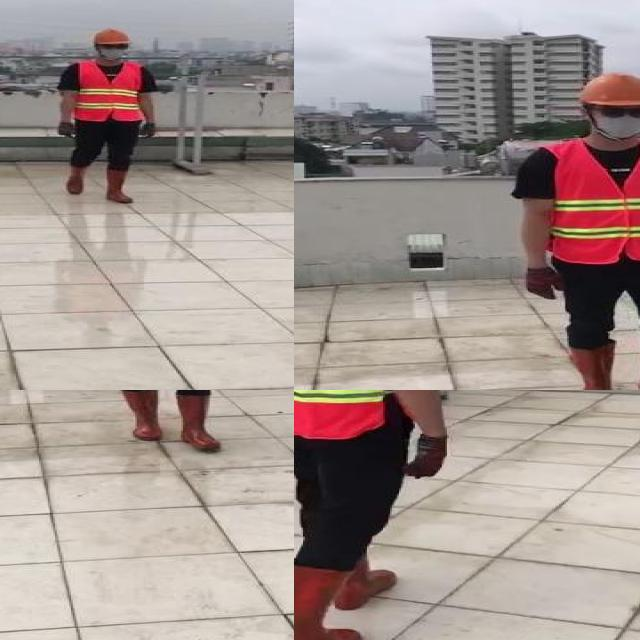boots: (294, 563, 363, 640), (337, 560, 395, 613), (174, 394, 219, 450), (567, 344, 618, 390), (119, 390, 161, 441), (105, 167, 137, 204), (62, 164, 86, 194)
face_mask: (593, 103, 640, 138), (99, 41, 129, 60)
glasses: (594, 102, 640, 119), (98, 42, 130, 51)
hand_glove: (402, 437, 450, 478), (524, 265, 566, 301), (57, 121, 78, 138), (137, 122, 156, 140)
head_helmet: (576, 71, 640, 109), (90, 26, 132, 45)
person: (294, 390, 454, 640), (517, 69, 640, 390), (56, 29, 168, 208), (64, 390, 242, 457)
vest: (547, 139, 640, 260), (74, 61, 146, 121)
